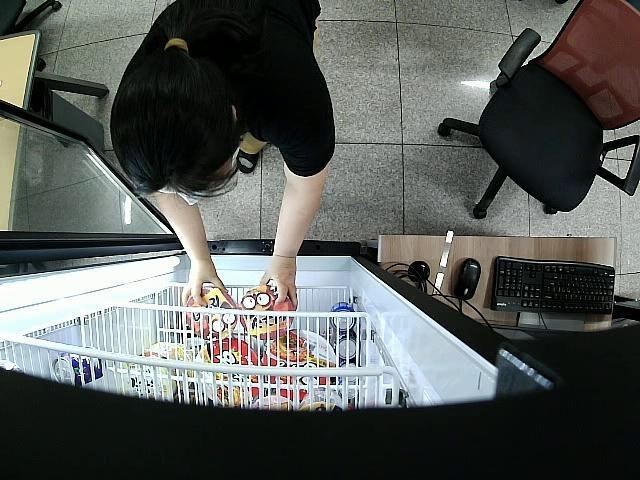05_nuguri_L: (182, 286, 238, 341), (239, 286, 293, 340)
